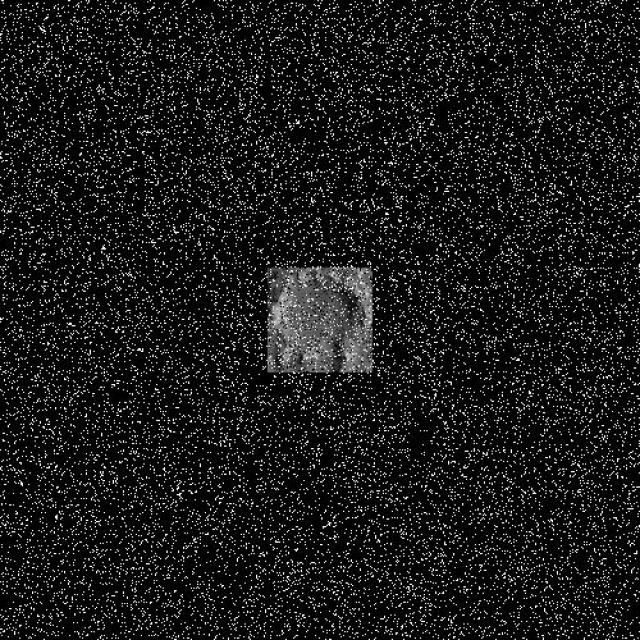crater: (268, 272, 372, 366)
